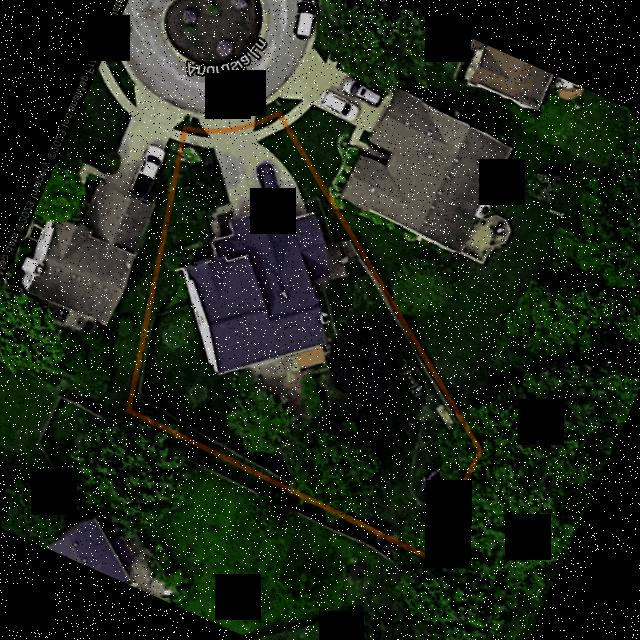Driveway: (212, 130, 305, 235)
Extra Driveway: (199, 108, 256, 128)
Extra Lawn: (255, 98, 280, 120), (187, 115, 202, 127), (257, 121, 273, 129)
House: (184, 205, 328, 371)
Sidewalk: (252, 346, 326, 416), (316, 241, 358, 335), (255, 118, 285, 141), (186, 133, 214, 147)
